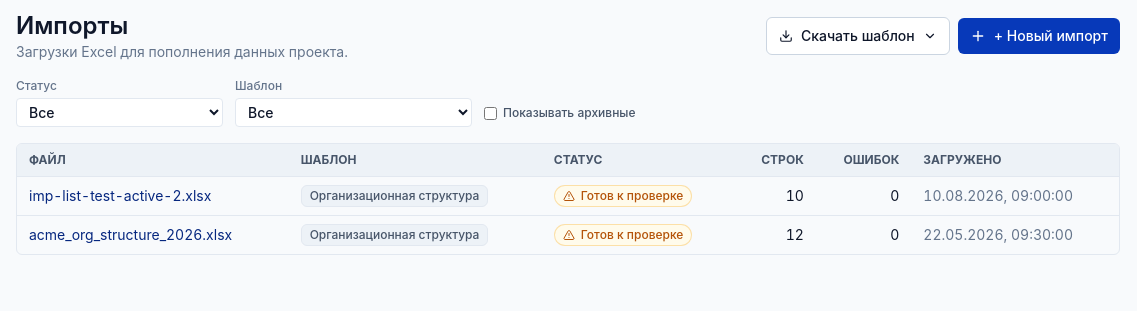
ImportListPage › reveals ARCHIVED batches once "Show archived" is checked
Expected: the link with test id "import-row-imp-list-test-active-2" is shown, [29,187,211,204]
What coordinates should you click on to do the following:
click the checkbox with test id "import-list-show-archived"
I would click on:
 (490, 113)
Its box is [484,106,497,120].
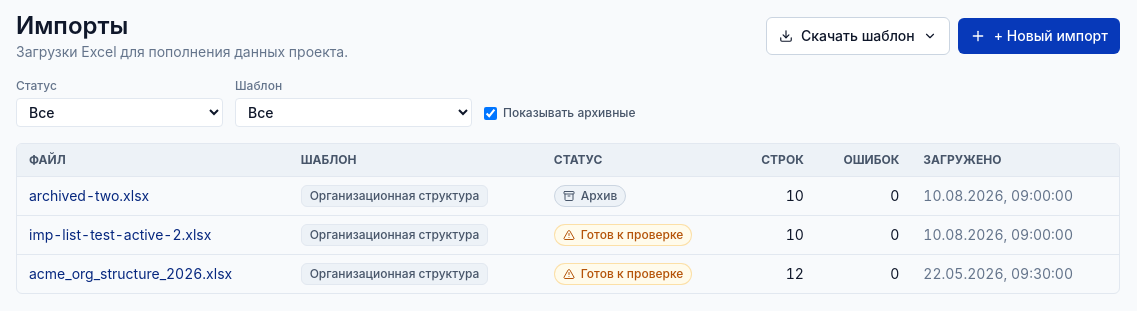
Expected: the link with test id "import-row-imp-list-test-active-2" is shown, [29,226,211,243]
Expected: the link with test id "import-row-imp-list-test-archived-2" is shown, [29,187,149,204]
